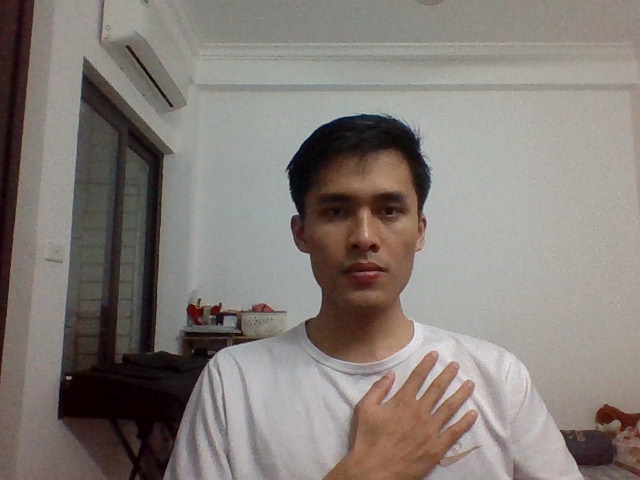Please: (345, 349, 483, 480)
